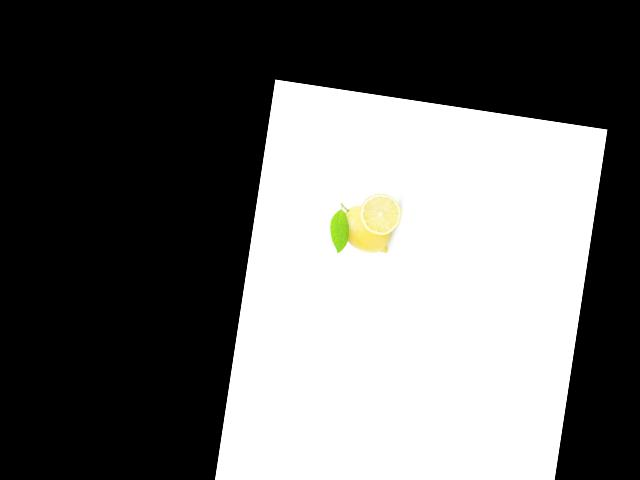lemon: (332, 199, 399, 260)
